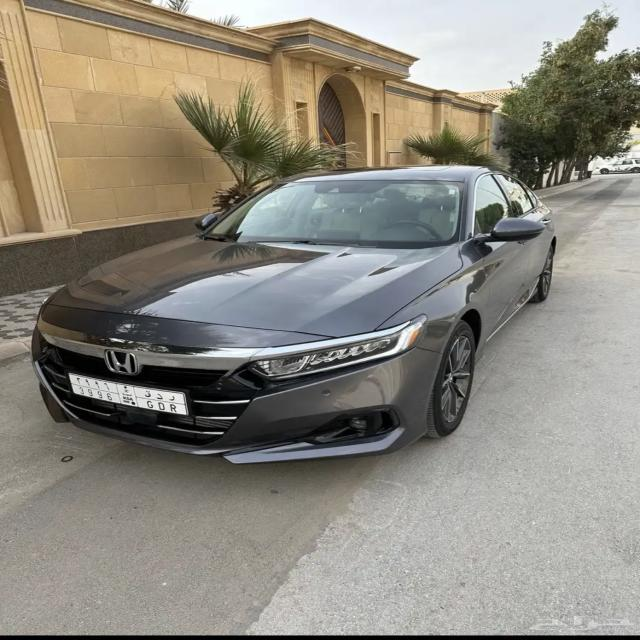license_plate: (68, 372, 190, 414)
